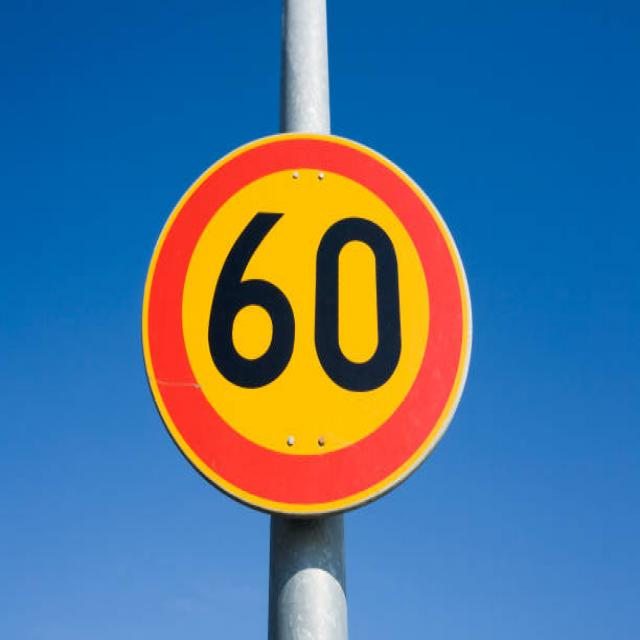speed_limit_60: (134, 126, 477, 517)
